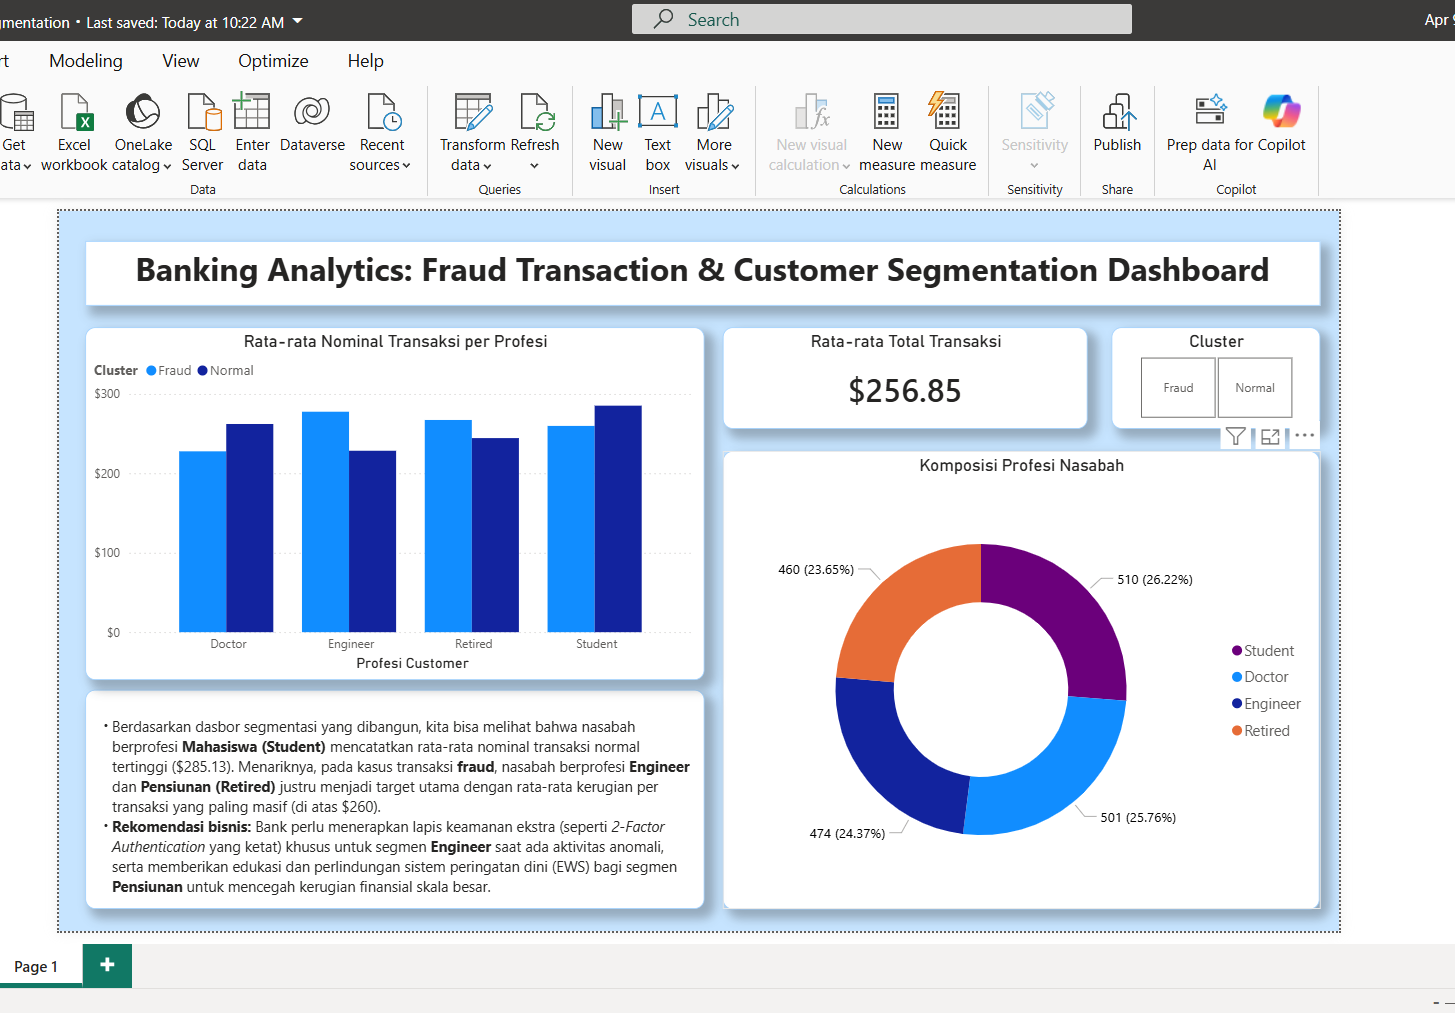

The page's visual inventory and layout, read from the dashboard file:
{"tool":"powerbi","page":{"name":"Page 1","canvas":[1280,720],"ordinal":0},"visuals":[{"type":"slicer","title":"Cluster","fields":{"Values":["data_clustering_inverse.Cluster"]},"box":[1052.5,116.6,208.6,101.5],"z":0},{"type":"donutChart","title":"Komposisi Profesi Nasabah","fields":{"Category":["data_clustering_inverse.CustomerOccupation"],"Y":["CountNonNull(data_clustering_inverse.CustomerOccupation)"]},"box":[664.2,240.1,596.9,458.3],"z":1000},{"type":"textbox","box":[26.1,478.9,618.9,219.6],"z":2000},{"type":"clusteredColumnChart","title":"Rata-rata Nominal Transaksi per Profesi","fields":{"Category":["data_clustering_inverse.CustomerOccupation"],"Y":["Avg(data_clustering_inverse.TransactionAmount)"],"Series":["data_clustering_inverse.Cluster"]},"box":[26.1,116.6,618.9,352.7],"z":3000},{"type":"textbox","box":[26.1,30.2,1235,64.5],"z":4000},{"type":"cardVisual","title":"Rata-rata Total Transaksi","fields":{"Data":["Avg(data_clustering_inverse.TransactionAmount)"]},"box":[664.2,116.6,365,101.5],"z":5000}]}

Visuals, with their boxes on the page's 1280x720 design canvas (x1, y1, x2, y2). These are canvas units, not pixel positions in the 1455x1013 screenshot, which may show the page scaled, cropped or inside an application window:
"Cluster" slicer: 1052 117 1261 218
"Komposisi Profesi Nasabah" donutChart: 664 240 1261 698
textbox: 26 479 645 698
"Rata-rata Nominal Transaksi per Profesi" clusteredColumnChart: 26 117 645 469
textbox: 26 30 1261 95
"Rata-rata Total Transaksi" cardVisual: 664 117 1029 218
